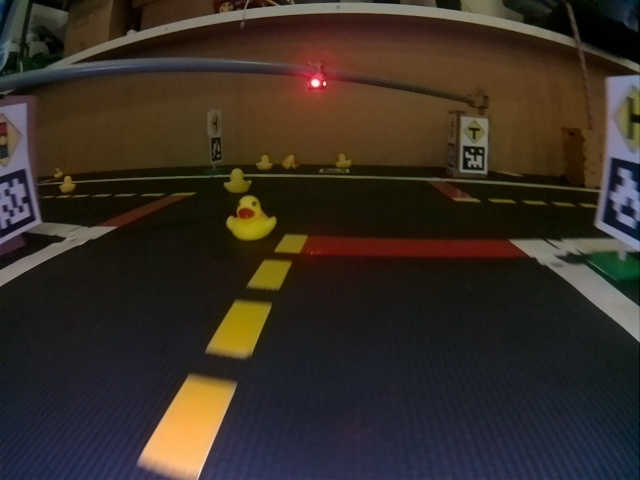Duckie: (226, 196, 275, 241), (225, 169, 251, 193), (257, 155, 272, 170), (336, 153, 351, 168), (281, 155, 297, 169), (60, 178, 75, 192)
Intersection sign: (607, 81, 638, 152), (461, 117, 488, 143), (208, 109, 221, 135)
QR code: (600, 157, 639, 243), (1, 169, 37, 237), (461, 145, 486, 173), (210, 136, 223, 163), (447, 142, 458, 170)
Signal sign: (0, 108, 23, 163)
Traffic light: (306, 60, 327, 91)
